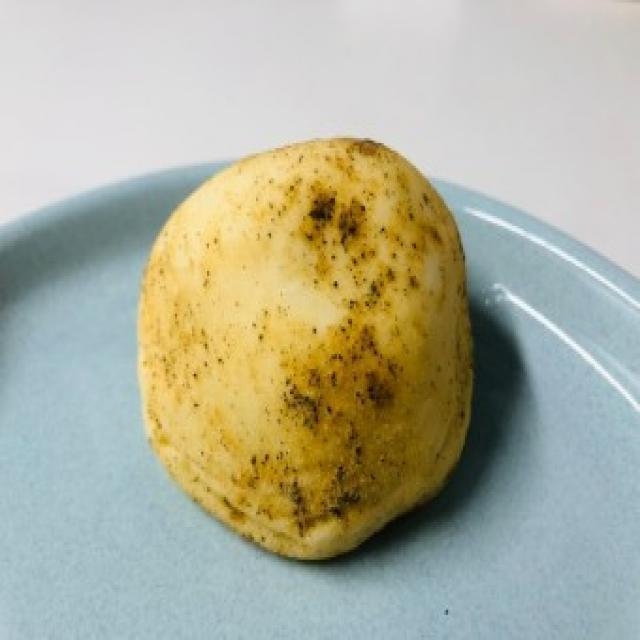potato: (137, 132, 480, 566)
